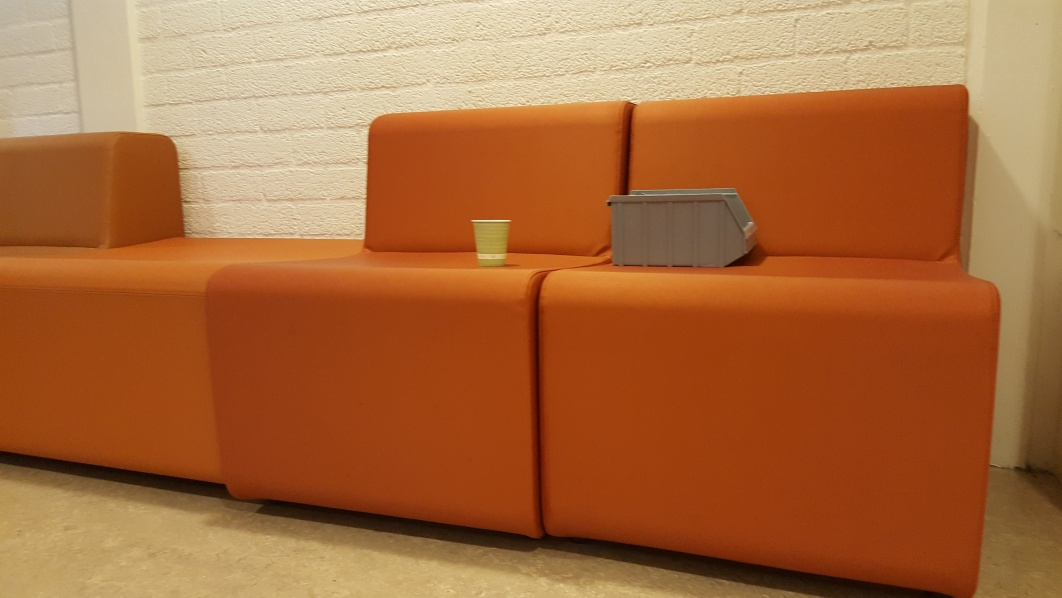cup: (468, 216, 516, 268)
tray: (603, 186, 759, 272)
